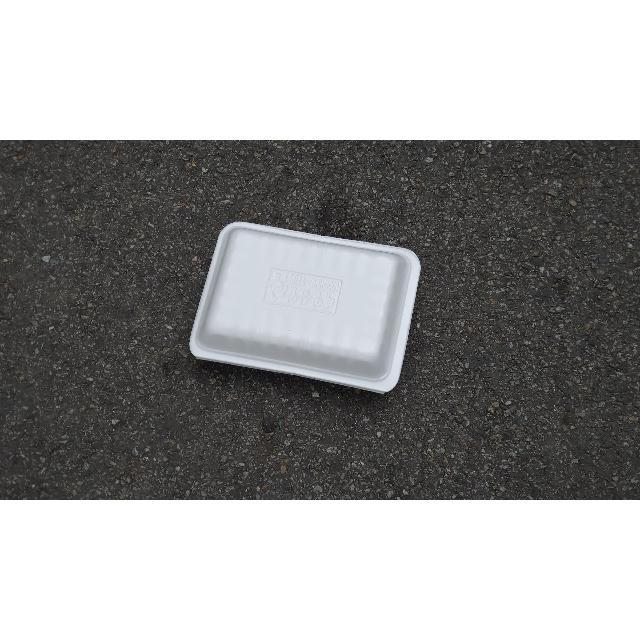Plastico descartable: (190, 223, 422, 396)
